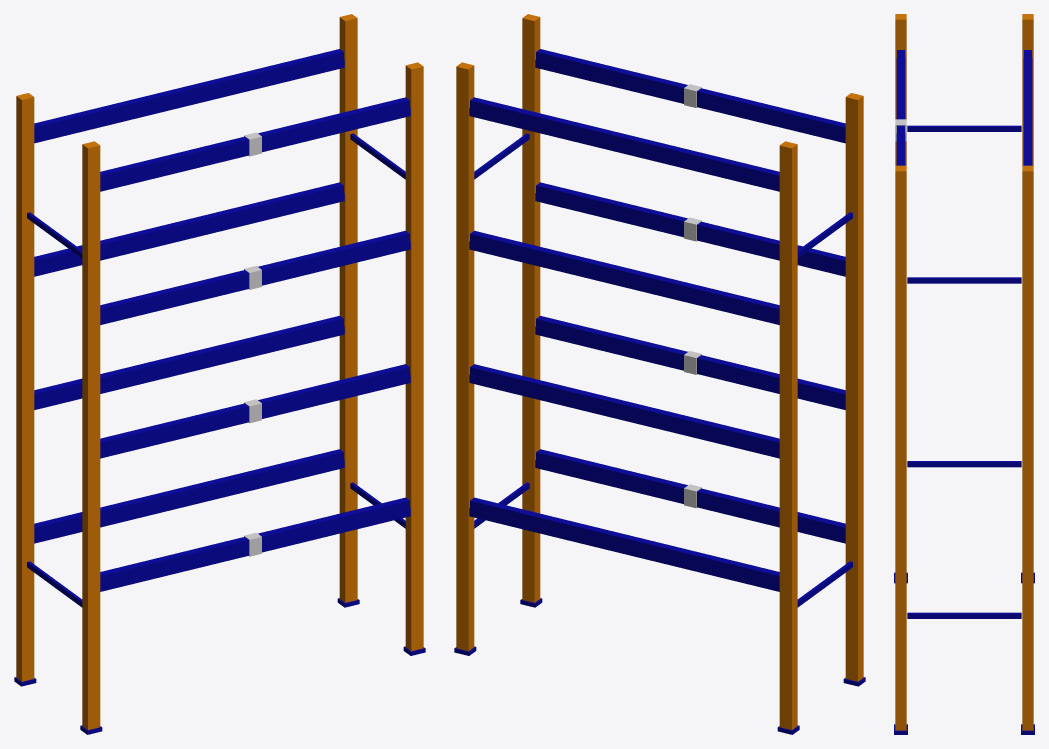
Rendered from high-duty-C27-4.glb.
3 views of the same model, side by side, from view 1: azimuth 30°, elevation 25°; view 2: azimuth 150°, elevation 25°; view 3: azimuth 270°, elevation 25° (orthographic). The views are drawn at different scales.
Parts seen in each view (by area): view 1: part_0, part_4, part_2, part_6, part_25, part_8, part_18, part_13, part_23, part_10, part_15, part_20 (+8 smaller); view 2: part_4, part_0, part_6, part_2, part_10, part_25, part_15, part_20, part_23, part_13, part_8, part_18 (+8 smaller); view 3: part_2, part_6, part_25, part_4, part_23, part_0, part_28, part_29, part_30, part_31.
Part boxes in pixels (x1,y1,x2,y2): part_0: [82, 141, 100, 729]; part_4: [16, 93, 34, 681]; part_2: [405, 62, 423, 651]; part_6: [339, 14, 357, 602]; part_25: [34, 49, 343, 135]; part_8: [100, 497, 409, 583]; part_18: [100, 230, 409, 316]; part_13: [100, 364, 409, 450]; part_23: [100, 97, 409, 183]; part_10: [34, 449, 343, 535]; part_15: [34, 316, 343, 401]; part_20: [34, 182, 343, 268]; part_4: [779, 141, 797, 729]; part_0: [845, 93, 863, 681]; part_6: [456, 62, 474, 651]; part_2: [522, 14, 540, 602]; part_10: [470, 497, 779, 583]; part_25: [470, 97, 779, 183]; part_15: [470, 364, 779, 450]; part_20: [470, 230, 779, 316]; part_23: [536, 49, 845, 135]; part_13: [536, 316, 845, 401]; part_8: [536, 449, 845, 535]; part_18: [536, 182, 845, 268]; part_2: [895, 165, 906, 730]; part_6: [1022, 165, 1033, 730]; part_25: [1024, 50, 1031, 165]; part_4: [1022, 14, 1033, 165]; part_23: [897, 50, 904, 165]; part_0: [895, 14, 906, 165]; part_28: [907, 461, 1021, 467]; part_29: [907, 125, 1021, 131]; part_30: [907, 612, 1021, 618]; part_31: [907, 277, 1021, 283].
Size of the model in its own units: 2720 by 4500 by 1020.
